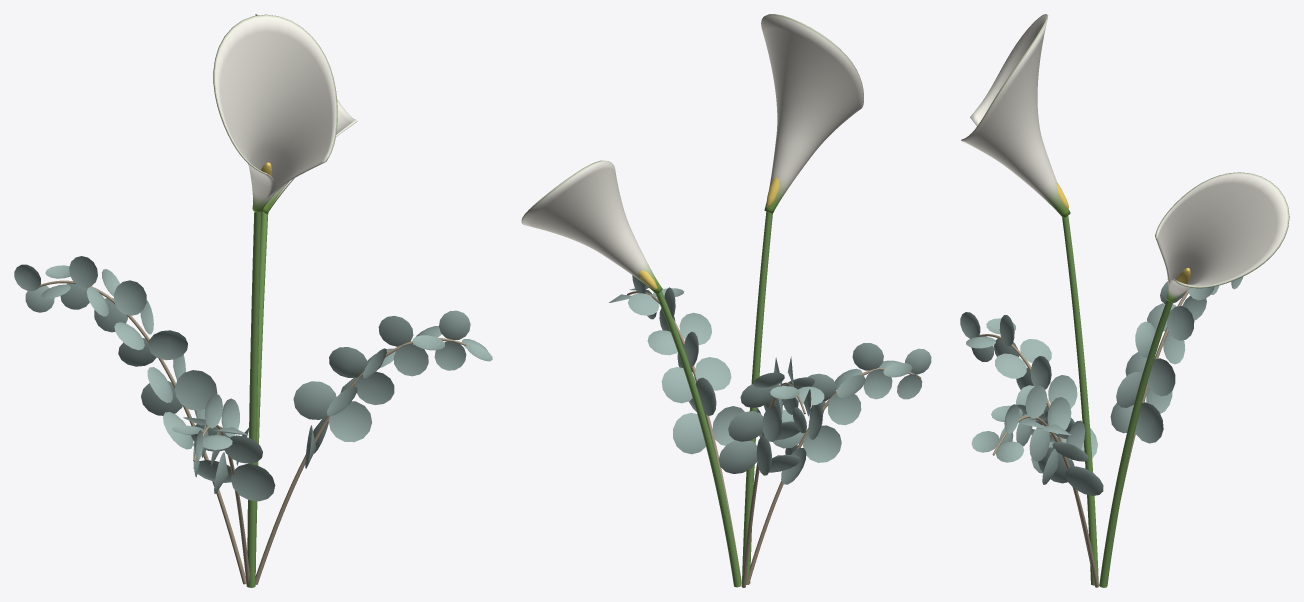
Rendered from flowers_small.glb.
3 views of the same model, side by side, from view 1: azimuth 30°, elevation 25°; view 2: azimuth 150°, elevation 25°; view 3: azimuth 270°, elevation 25° (orthographic). The views are drawn at different scales.
Parts seen in each view (by area): view 1: Flowers; view 2: Flowers; view 3: Flowers.
Part boxes in pixels (box(x1,y1,x2,y2)): Flowers: box(14, 14, 492, 587); Flowers: box(521, 14, 931, 587); Flowers: box(960, 14, 1289, 587).
Size of the model in its own units: 0.2666 by 0.4405 by 0.2366.
Materials: 5 (1 with a texture image).
